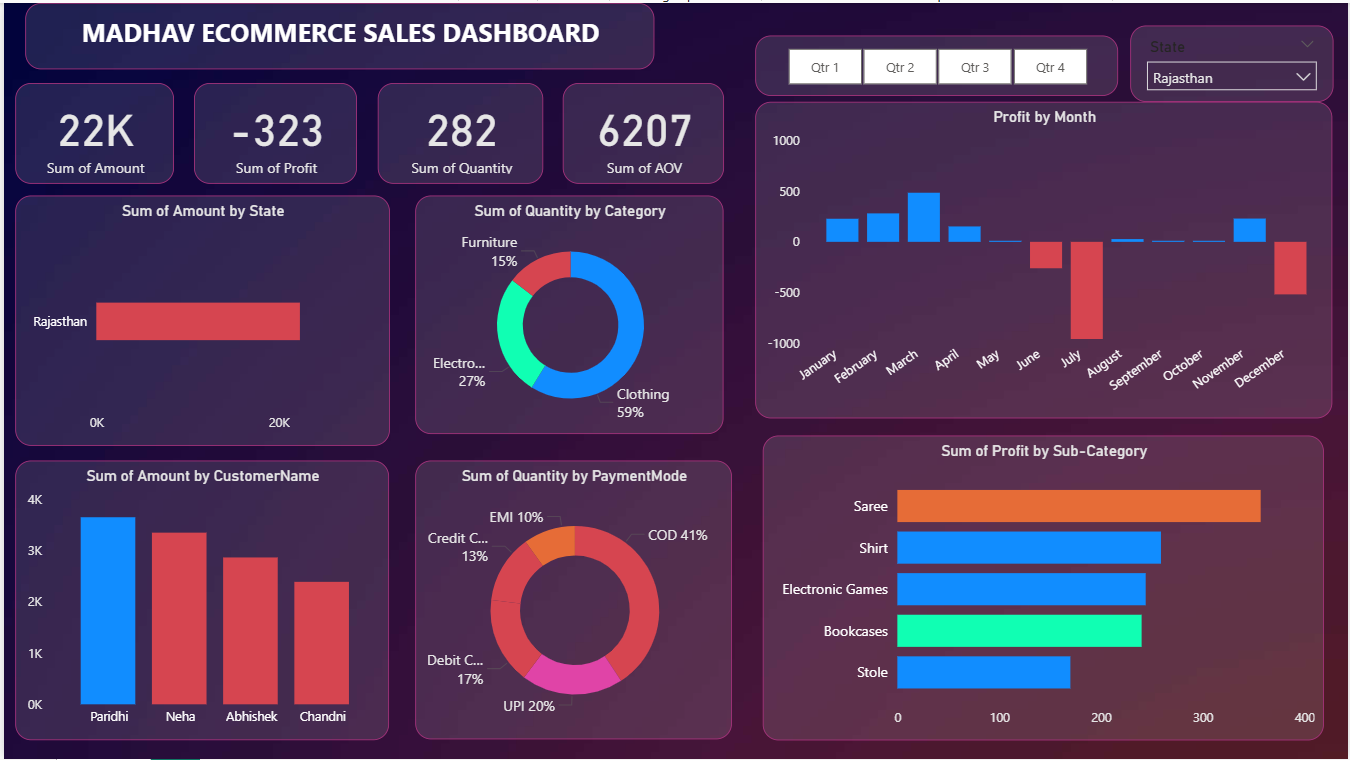

Layout of this report page (visuals, bound fields, positions):
{"tool":"powerbi","page":{"name":"Page 1","canvas":[1280,720],"ordinal":0},"visuals":[{"type":"textbox","box":[20.6,0,599.1,63.1],"z":0},{"type":"columnChart","title":" Profit by Month","fields":{"Category":["Orders.Order Date.Variation.Date Hierarchy.Month"],"Y":["Details.Profit"]},"box":[715.7,94.6,549.8,301.6],"z":1000},{"type":"barChart","fields":{"Category":["Details.Sub-Category"],"Y":["Details.Profit"]},"box":[722.5,411.3,534.7,290.7],"z":2000},{"type":"donutChart","fields":{"Category":["Details.Category"],"Y":["Details.Quantity"]},"box":[392.1,183.7,293.4,227.6],"z":3000},{"type":"donutChart","fields":{"Y":["Details.Quantity"],"Category":["Details.PaymentMode"]},"box":[392.1,436,301.6,266],"z":4000},{"type":"card","fields":{"Values":["Details.Amount"]},"box":[11,76.8,150.8,96],"z":5000},{"type":"card","fields":{"Values":["Details.Quantity"]},"box":[356.5,76.8,157.7,96],"z":6000},{"type":"card","fields":{"Values":["Details.Profit"]},"box":[181,76.8,154.9,96],"z":7000},{"type":"card","fields":{"Values":["Details.AOV"]},"box":[532,76.8,153.6,96],"z":8000},{"type":"barChart","fields":{"Category":["Orders.State"],"Y":["Details.Amount"]},"box":[11,183.7,356.5,238.6],"z":9000},{"type":"columnChart","fields":{"Category":["Orders.CustomerName"],"Y":["Details.Amount"]},"box":[11,436,356,266],"z":10000},{"type":"slicer","fields":{"Values":["Orders.Order Date.Variation.Date Hierarchy.Quarter"]},"box":[715.7,31.5,345.5,57.6],"z":11000},{"type":"slicer","fields":{"Values":["Orders.State"]},"box":[1072.2,21.9,193.3,72.7],"z":12000}]}

Visuals, with their boxes in screenshot pixels (x1, y1, x2, y2), scaled from the page's 1280x720 canvas onto the 1350x760 screenshot:
textbox: detection(22, 0, 654, 67)
" Profit by Month" columnChart: detection(755, 100, 1335, 418)
barChart - Details.Sub-Category x Details.Profit: detection(762, 434, 1326, 741)
donutChart - Details.Category x Details.Quantity: detection(414, 194, 723, 434)
donutChart - Details.Quantity x Details.PaymentMode: detection(414, 460, 732, 741)
card - Details.Amount: detection(12, 81, 171, 182)
card - Details.Quantity: detection(376, 81, 542, 182)
card - Details.Profit: detection(191, 81, 354, 182)
card - Details.AOV: detection(561, 81, 723, 182)
barChart - Orders.State x Details.Amount: detection(12, 194, 388, 446)
columnChart - Orders.CustomerName x Details.Amount: detection(12, 460, 387, 741)
slicer - Orders.Order Date.Variation.Date Hierarchy.Quarter: detection(755, 33, 1119, 94)
slicer - Orders.State: detection(1131, 23, 1335, 100)
